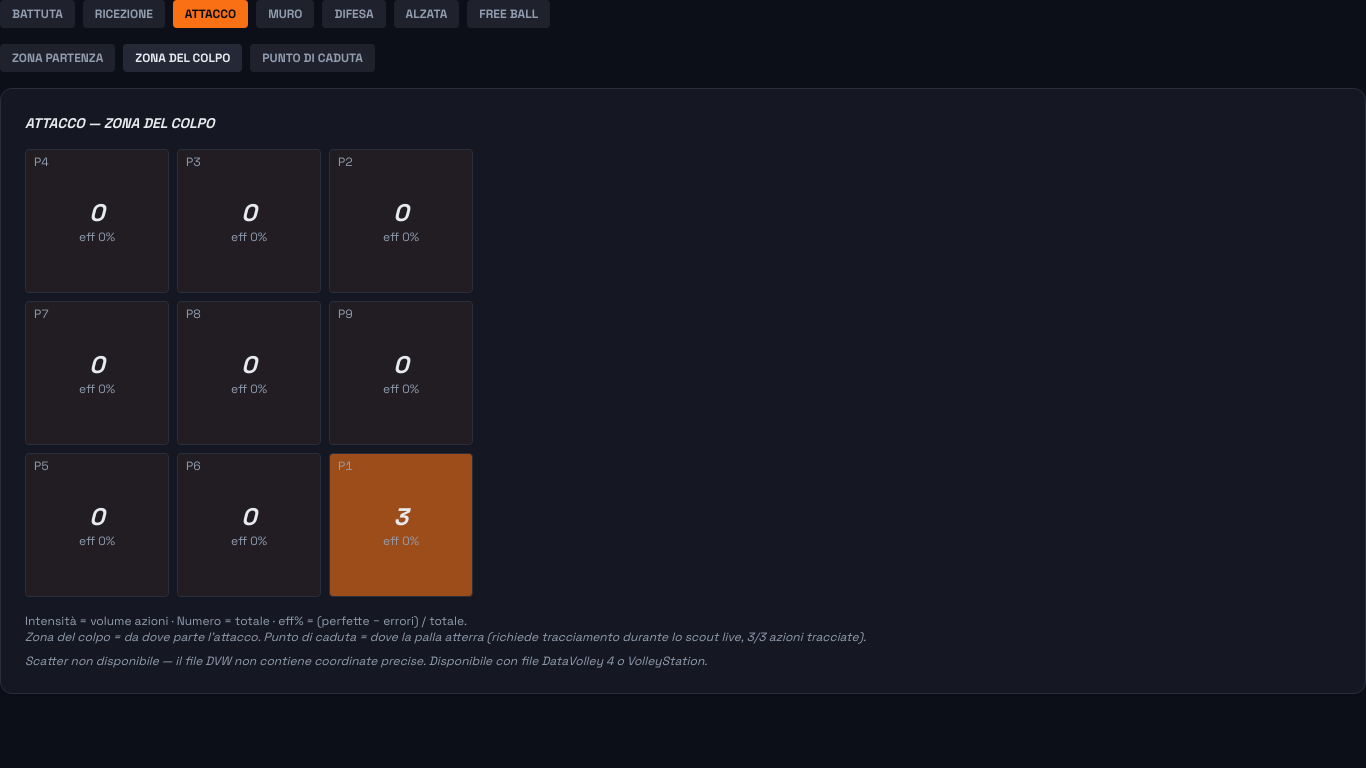
Test: HeatmapTab con coordinate reali › attacco: usa le coordinate di caduta (landing) nella modalità "punto di caduta"
Click the button "Punto di caduta". click: (313, 58)
box: [250,44,375,72]
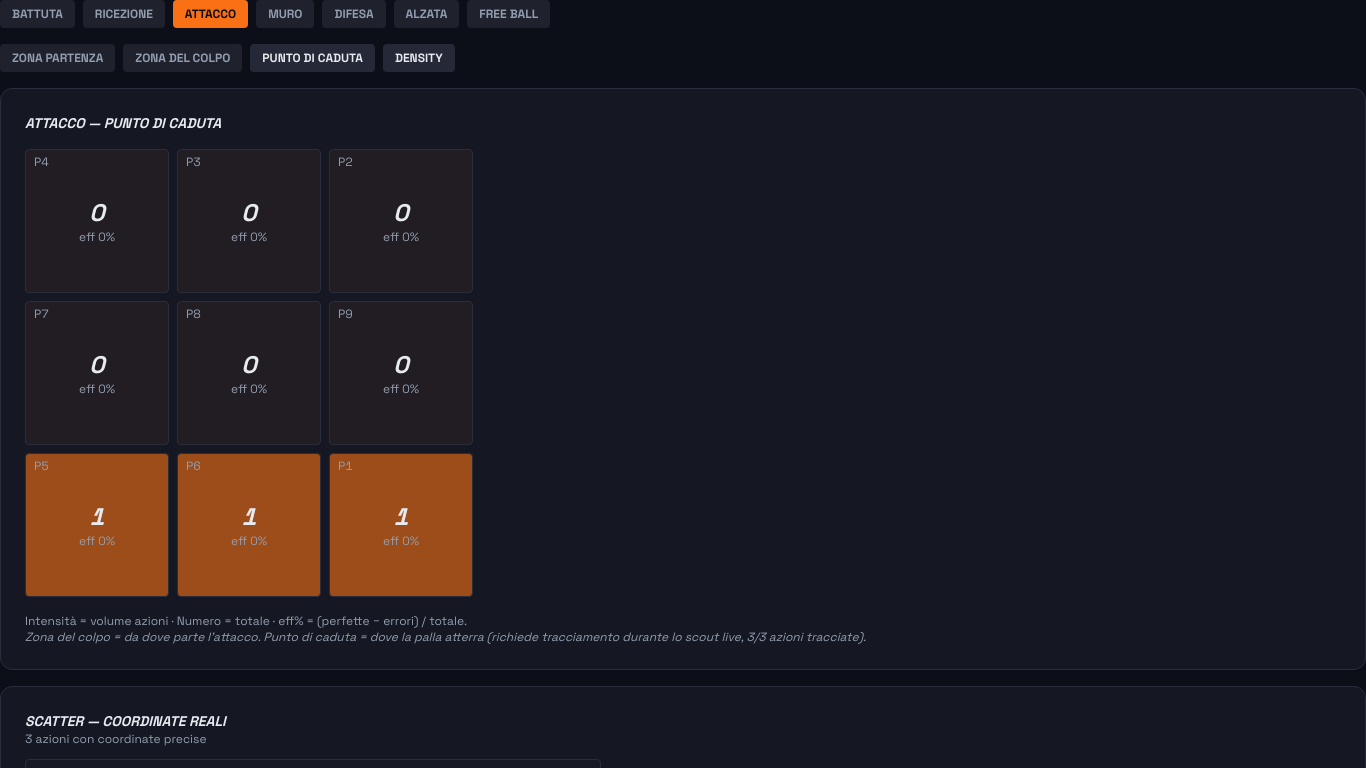
Now the text "3 azioni con coordinate precise" is shown, box [25,731,206,747]
